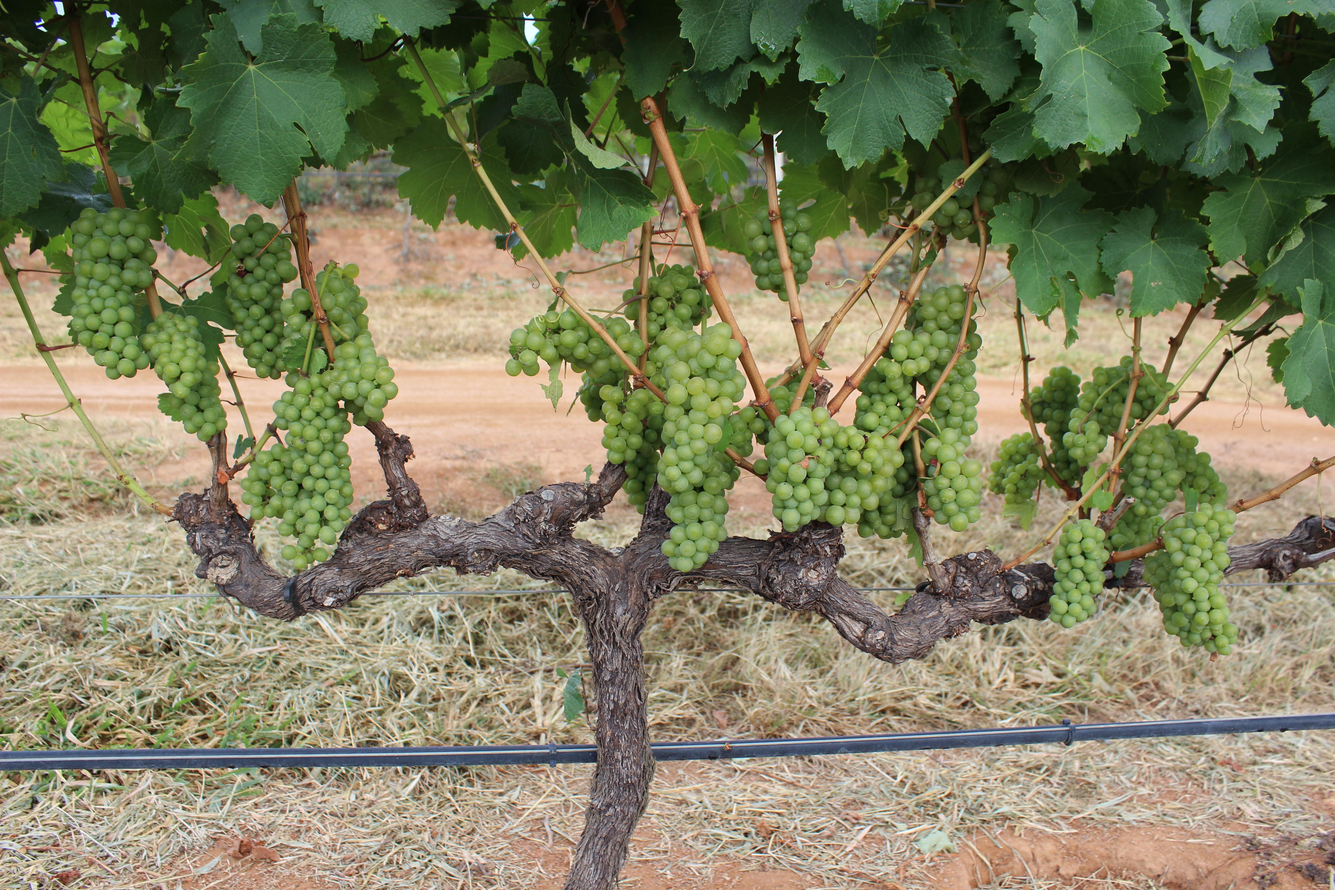leaf: (177, 14, 347, 203), (798, 0, 958, 166), (1029, 0, 1169, 153), (1203, 132, 1335, 263), (991, 185, 1113, 316), (392, 117, 508, 231), (109, 98, 217, 212), (1101, 207, 1211, 316), (0, 76, 65, 217), (570, 157, 657, 251), (1282, 279, 1335, 425), (1259, 206, 1335, 306), (758, 65, 829, 164), (951, 0, 1020, 101), (1198, 0, 1330, 49), (621, 3, 686, 99), (316, 0, 459, 41), (219, 0, 322, 56), (678, 0, 755, 71), (518, 169, 576, 257), (162, 193, 231, 263), (750, 0, 811, 60), (480, 137, 519, 208), (1303, 62, 1335, 141), (514, 243, 525, 258), (852, 0, 885, 5), (1067, 317, 1074, 328), (873, 19, 879, 24), (845, 0, 849, 5), (895, 2, 897, 6), (1076, 303, 1077, 305), (1313, 134, 1314, 136), (882, 17, 883, 18)
